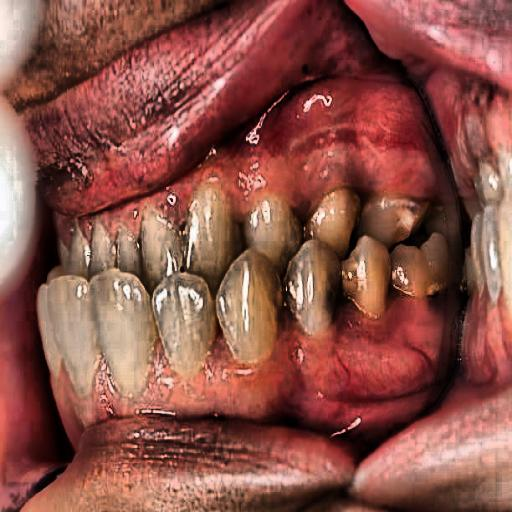Gingivitis: (259, 64, 464, 210), (287, 316, 447, 424)
